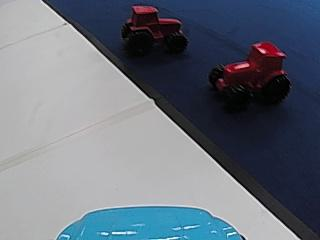Tracktor: (204, 40, 292, 104), (120, 4, 187, 54)
